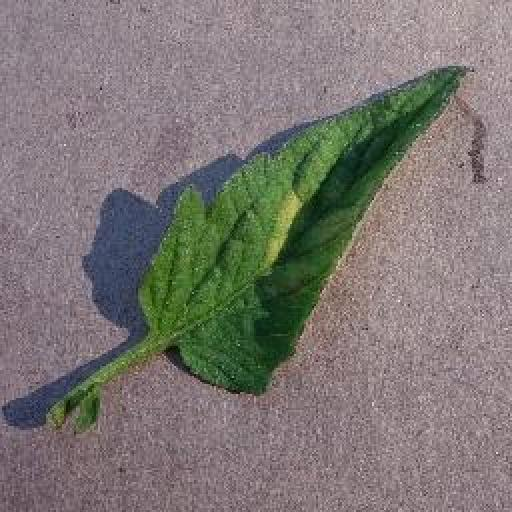disease_tomato: (135, 62, 471, 394)
